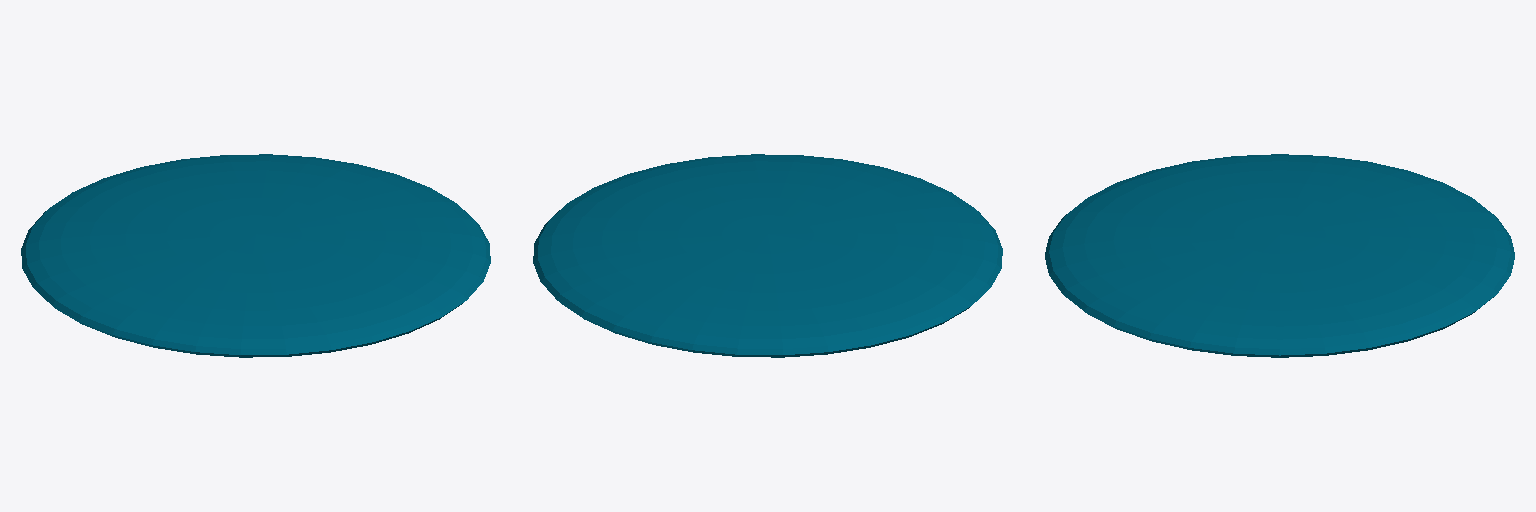
The model's file is pond.obj.
3 views of the same model, side by side, from view 1: azimuth 30°, elevation 25°; view 2: azimuth 150°, elevation 25°; view 3: azimuth 270°, elevation 25° (orthographic).
Parts seen in each view (by area): view 1: Sphere001; view 2: Sphere001; view 3: Sphere001.
Boxes of the visible parts, x1=… form: Sphere001: x1=21, y1=154, x2=490, y2=357; Sphere001: x1=533, y1=154, x2=1002, y2=357; Sphere001: x1=1045, y1=154, x2=1514, y2=357.
Size of the model in its own units: 14.62 by 1.49 by 14.62.